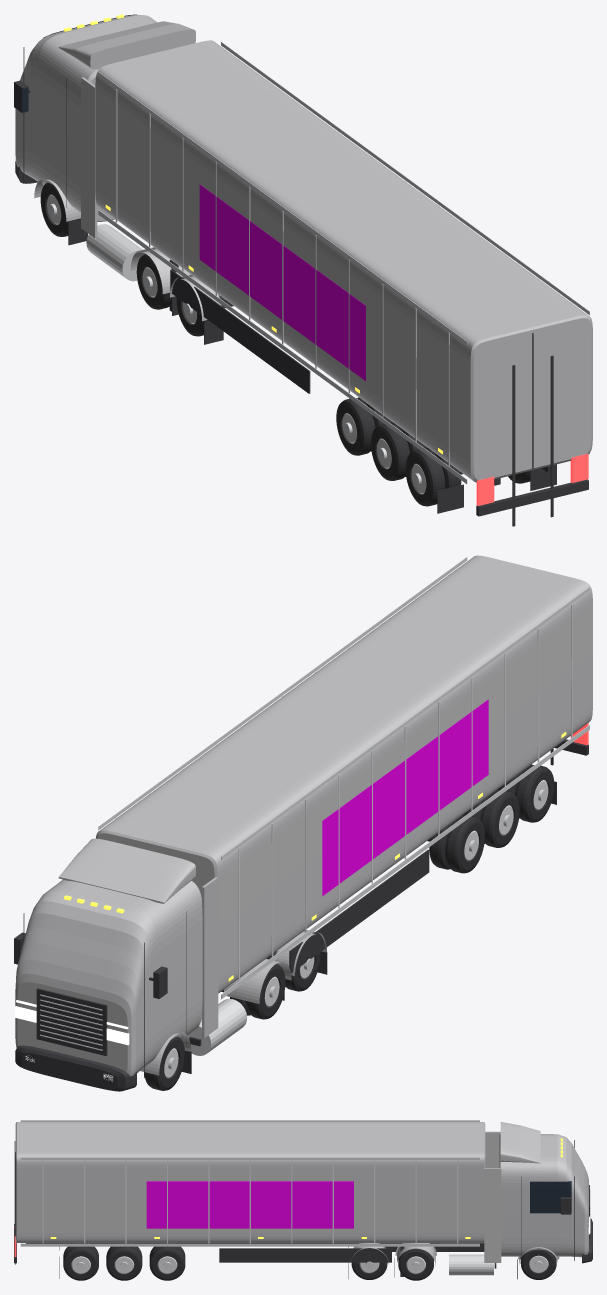
File: truck.glb
3 views of the same model, one above another, from view 1: azimuth 30°, elevation 25°; view 2: azimuth 150°, elevation 25°; view 3: azimuth 270°, elevation 25° (orthographic). The views are drawn at different scales.
Parts seen in each view (by area): view 1: trailer, anchor_decal_l, cab, roof_fairing, side_skirt_l, cab_extender_l, rail_bottom_l, wheel_tl3, wheel_tl1, wheel_tl2, rail_top_l, rail_top_r (+5 smaller); view 2: trailer, cab, anchor_decal_l, roof_fairing, grille, side_skirt_l, bumper, cab_extender_l, wheel_tl1, rail_bottom_l, wheel_tl3, wheel_tl2 (+6 smaller); view 3: trailer, anchor_decal_r, cab, side_skirt_r, rail_bottom_r, cab_extender_r, roof_fairing, rail_top_r, side_window_r, wheel_tr1, wheel_tr2, wheel_tr3 (+9 smaller).
Boxes of the visible parts, x1=… form: trailer: x1=95, y1=40, x2=592, y2=482; anchor_decal_l: x1=199, y1=184, x2=365, y2=380; cab: x1=15, y1=15, x2=157, y2=221; roof_fairing: x1=58, y1=21, x2=195, y2=69; side_skirt_l: x1=170, y1=269, x2=310, y2=393; cab_extender_l: x1=81, y1=77, x2=97, y2=238; rail_bottom_l: x1=98, y1=210, x2=467, y2=483; wheel_tl3: x1=405, y1=448, x2=461, y2=506; wheel_tl1: x1=336, y1=397, x2=390, y2=455; wheel_tl2: x1=371, y1=423, x2=425, y2=480; rail_top_l: x1=98, y1=71, x2=467, y2=344; rail_top_r: x1=221, y1=42, x2=589, y2=315; trailer: x1=96, y1=555, x2=592, y2=993; cab: x1=15, y1=879, x2=202, y2=1076; anchor_decal_l: x1=322, y1=699, x2=488, y2=896; roof_fairing: x1=58, y1=838, x2=195, y2=903; grille: x1=36, y1=988, x2=107, y2=1055; side_skirt_l: x1=289, y1=849, x2=429, y2=973; bumper: x1=15, y1=1045, x2=136, y2=1091; cab_extender_l: x1=202, y1=877, x2=218, y2=1038; wheel_tl1: x1=429, y1=815, x2=484, y2=873; rail_bottom_l: x1=221, y1=725, x2=589, y2=999; wheel_tl3: x1=499, y1=764, x2=554, y2=822; wheel_tl2: x1=465, y1=790, x2=519, y2=847; trailer: x1=15, y1=1122, x2=485, y2=1242; anchor_decal_r: x1=146, y1=1181, x2=353, y2=1228; cab: x1=499, y1=1134, x2=588, y2=1257; side_skirt_r: x1=219, y1=1248, x2=391, y2=1262; rail_bottom_r: x1=20, y1=1243, x2=479, y2=1246; cab_extender_r: x1=484, y1=1168, x2=501, y2=1262; roof_fairing: x1=500, y1=1122, x2=540, y2=1163; rail_top_r: x1=20, y1=1157, x2=479, y2=1159; side_window_r: x1=530, y1=1181, x2=571, y2=1213; wheel_tr1: x1=149, y1=1243, x2=185, y2=1280; wheel_tr2: x1=106, y1=1243, x2=142, y2=1280; wheel_tr3: x1=63, y1=1243, x2=98, y2=1280.
Size of the model in its own units: 3.03 by 4.06 by 16.77.
